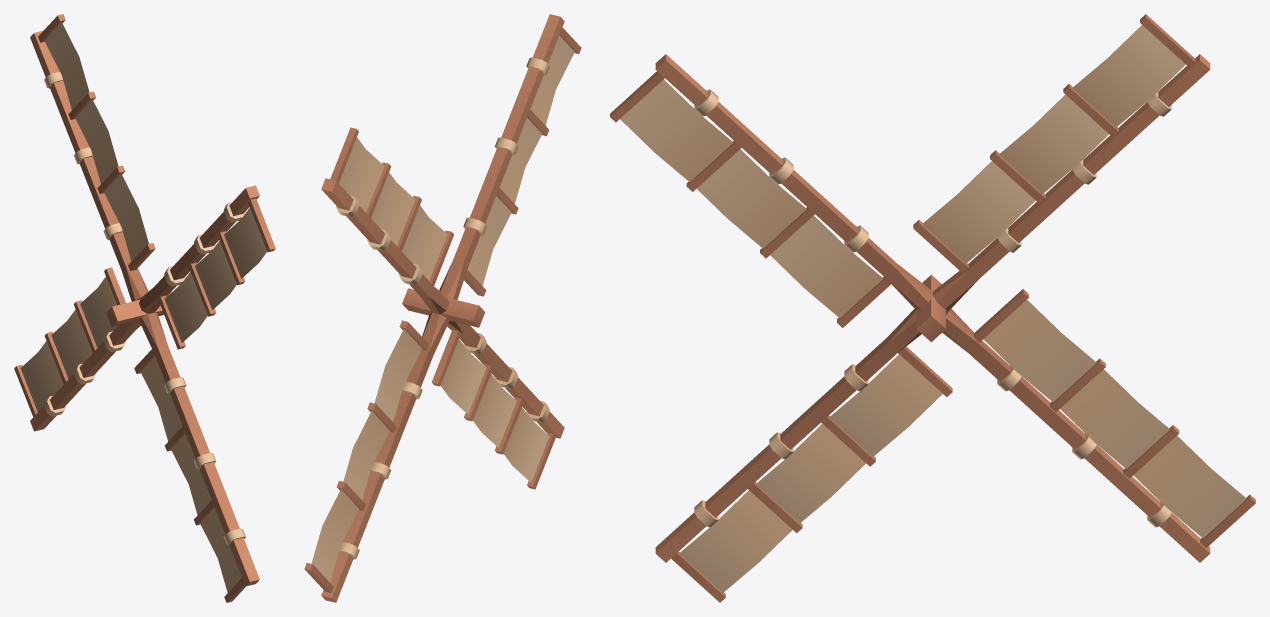
Rendered from windmill.fbx.
3 views of the same model, side by side, from view 1: azimuth 30°, elevation 25°; view 2: azimuth 150°, elevation 25°; view 3: azimuth 270°, elevation 25° (orthographic). The views are drawn at different scales.
Visible parts, largest first — view 1: windmill; view 2: windmill; view 3: windmill.
Boxes of the visible parts, <box> form: windmill: <box>14,14,275,602</box>; windmill: <box>304,14,581,602</box>; windmill: <box>610,14,1255,602</box>.
Bounding box in the file's own units: 47.1 × 311 × 311.
Materials: 1 (1 with a texture image).
